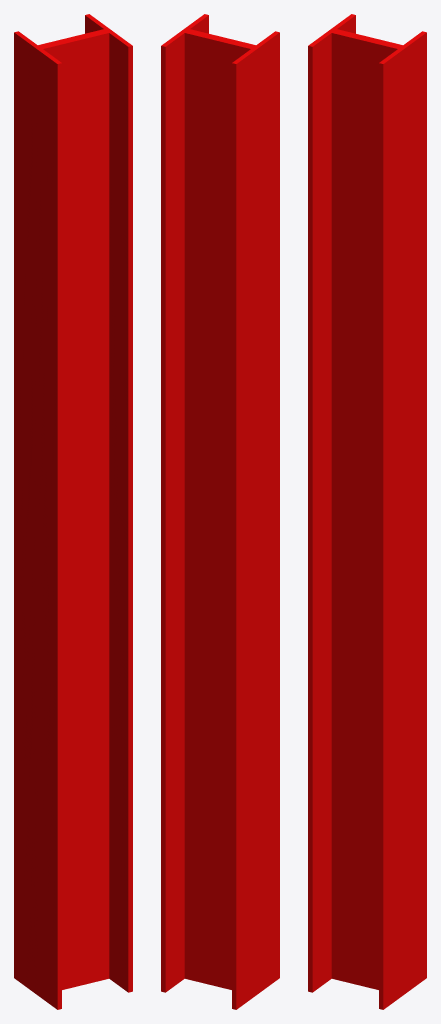
Rendered from Structure01_Beam02.fbx.
The picture shows the model from 3 angles, left to right: view 1: azimuth 30°, elevation 25°; view 2: azimuth 150°, elevation 25°; view 3: azimuth 330°, elevation 25°; orthographic projection.
Parts seen in each view (by area): view 1: Structure01_Beam02_LOD0; view 2: Structure01_Beam02_LOD0; view 3: Structure01_Beam02_LOD0.
Part boxes in pixels (<box>): Structure01_Beam02_LOD0: <box>14,14,132,1009</box>; Structure01_Beam02_LOD0: <box>161,14,279,1009</box>; Structure01_Beam02_LOD0: <box>308,14,426,1009</box>.
Size of what is drawn, in the model's own units: 25 by 300 by 25.
